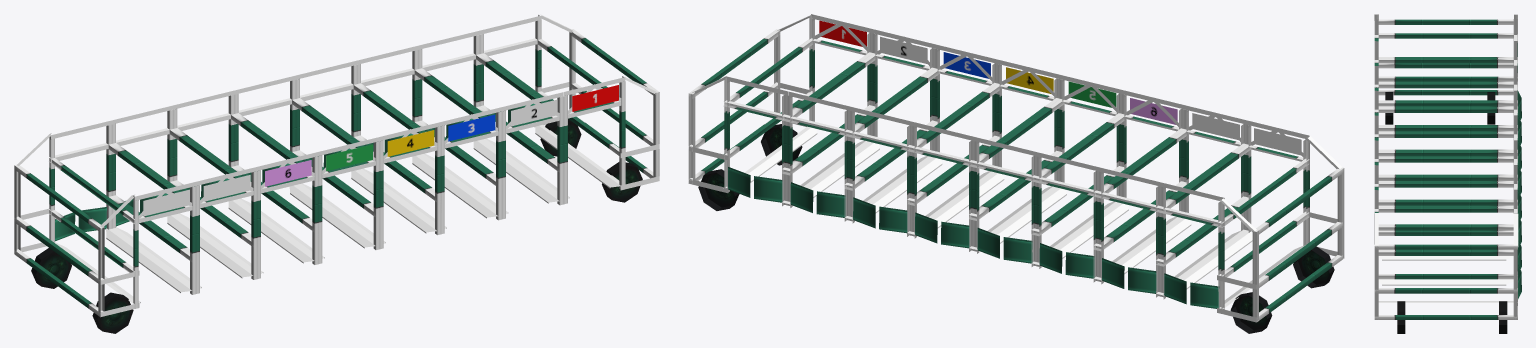
The model's file is startinggrid-2.fbx.
The picture shows the model from 3 angles, left to right: view 1: azimuth 30°, elevation 25°; view 2: azimuth 150°, elevation 25°; view 3: azimuth 270°, elevation 25°; orthographic projection. The views are drawn at different scales.
Parts seen in each view (by area): view 1: StartBlock1.011, StartBlock1.020, StartBlock1.010, StartBlock1.005, StartBlock1.008, StartBlock1.009, StartBlock1, StartBlock1.007, StartBlock1.006, StartBlock1.003, Plane.006, Plane.002 (+6 smaller); view 2: StartBlock1.011, StartBlock1.005, StartBlock1.008, StartBlock1.009, StartBlock1.010, StartBlock1, StartBlock1.007, StartBlock1.006, StartBlock1.020, StartBlock1.003, Plane.006, Plane.001 (+6 smaller); view 3: StartBlock1.003, StartBlock1, StartBlock1.005, StartBlock1.020, StartBlock1.009, StartBlock1.010, StartBlock1.011, StartBlock1.006, StartBlock1.008, StartBlock1.007.
Boxes of the visible parts, x1=… form: StartBlock1.011: x1=48, y1=120, x2=196, y2=308; StartBlock1.020: x1=14, y1=133, x2=139, y2=333; StartBlock1.010: x1=112, y1=105, x2=257, y2=293; StartBlock1.005: x1=418, y1=30, x2=563, y2=219; StartBlock1.008: x1=234, y1=75, x2=379, y2=264; StartBlock1.009: x1=173, y1=90, x2=318, y2=278; StartBlock1: x1=480, y1=15, x2=625, y2=204; StartBlock1.007: x1=296, y1=60, x2=441, y2=249; StartBlock1.006: x1=357, y1=46, x2=502, y2=234; StartBlock1.003: x1=534, y1=14, x2=659, y2=202; Plane.006: x1=203, y1=175, x2=250, y2=201; Plane.002: x1=387, y1=130, x2=434, y2=156; StartBlock1.011: x1=1160, y1=120, x2=1309, y2=309; StartBlock1.005: x1=786, y1=29, x2=936, y2=221; StartBlock1.008: x1=973, y1=75, x2=1122, y2=266; StartBlock1.009: x1=1035, y1=90, x2=1185, y2=282; StartBlock1.010: x1=1097, y1=105, x2=1247, y2=297; StartBlock1: x1=723, y1=14, x2=873, y2=206; StartBlock1.007: x1=910, y1=59, x2=1060, y2=251; StartBlock1.006: x1=848, y1=44, x2=998, y2=236; StartBlock1.020: x1=1217, y1=136, x2=1344, y2=333; StartBlock1.003: x1=688, y1=14, x2=815, y2=210; Plane.006: x1=1192, y1=113, x2=1239, y2=140; Plane.001: x1=1068, y1=81, x2=1116, y2=107; StartBlock1.003: x1=1374, y1=212, x2=1518, y2=333; StartBlock1: x1=1374, y1=193, x2=1521, y2=302; StartBlock1.005: x1=1374, y1=168, x2=1521, y2=268; StartBlock1.020: x1=1374, y1=14, x2=1517, y2=124; StartBlock1.009: x1=1374, y1=68, x2=1521, y2=169; StartBlock1.010: x1=1374, y1=44, x2=1521, y2=144; StartBlock1.011: x1=1374, y1=19, x2=1521, y2=119; StartBlock1.006: x1=1374, y1=143, x2=1521, y2=243; StartBlock1.008: x1=1374, y1=93, x2=1521, y2=194; StartBlock1.007: x1=1374, y1=118, x2=1521, y2=219.
Bounding box in the file's own units: 981 × 233 × 272.
